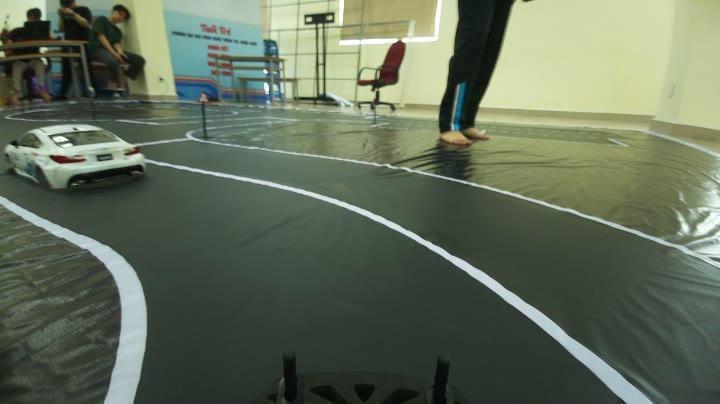car: (7, 117, 150, 206)
